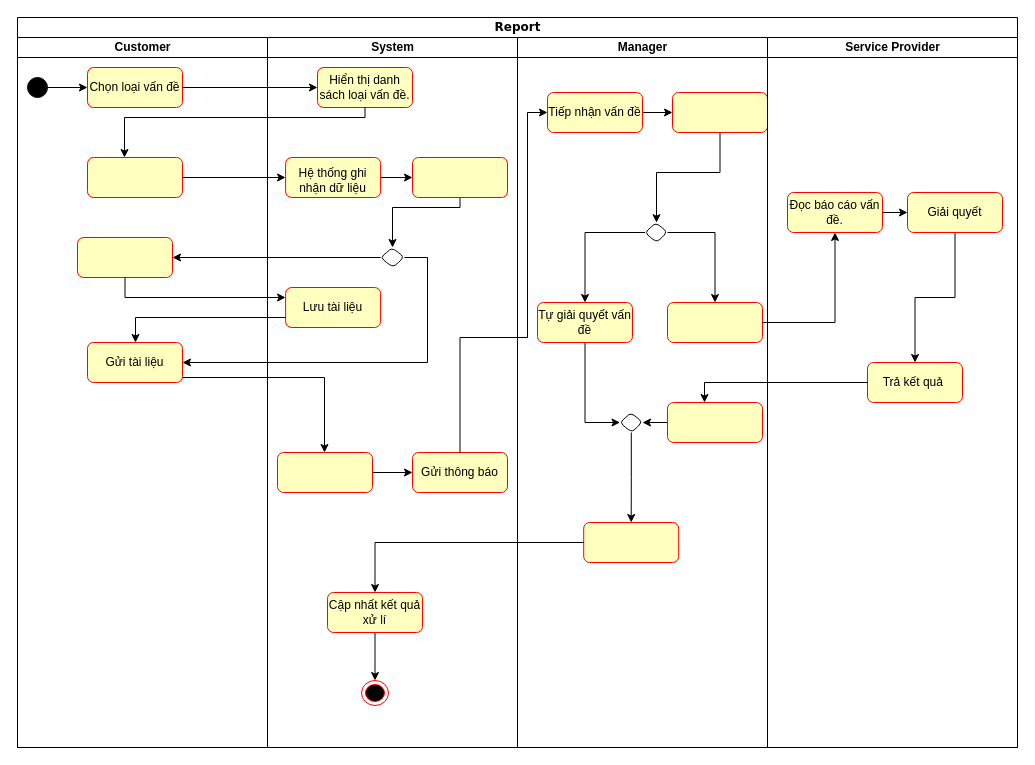
Some shapes in this 1035 by 765 pixel diagram are drawn without their labels. Each missing label, with the box of its shape:
Gửi cho nhà cung cấp: (666, 302, 762, 342)
Kiểm tra phạm vi thông tin: (672, 92, 768, 132)
Kiểm tra xem có cần chứng cứ: (412, 156, 508, 198)
Nhận kết quả: (666, 402, 762, 442)
Tạo thông báo: (276, 452, 372, 492)
Tải ảnh/tài liệu.: (76, 236, 172, 278)
Tổng hợp kết quả: (583, 522, 679, 562)
Điền mô tả chi tiết.: (86, 156, 182, 198)
